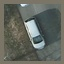car: (22, 17, 46, 51)
